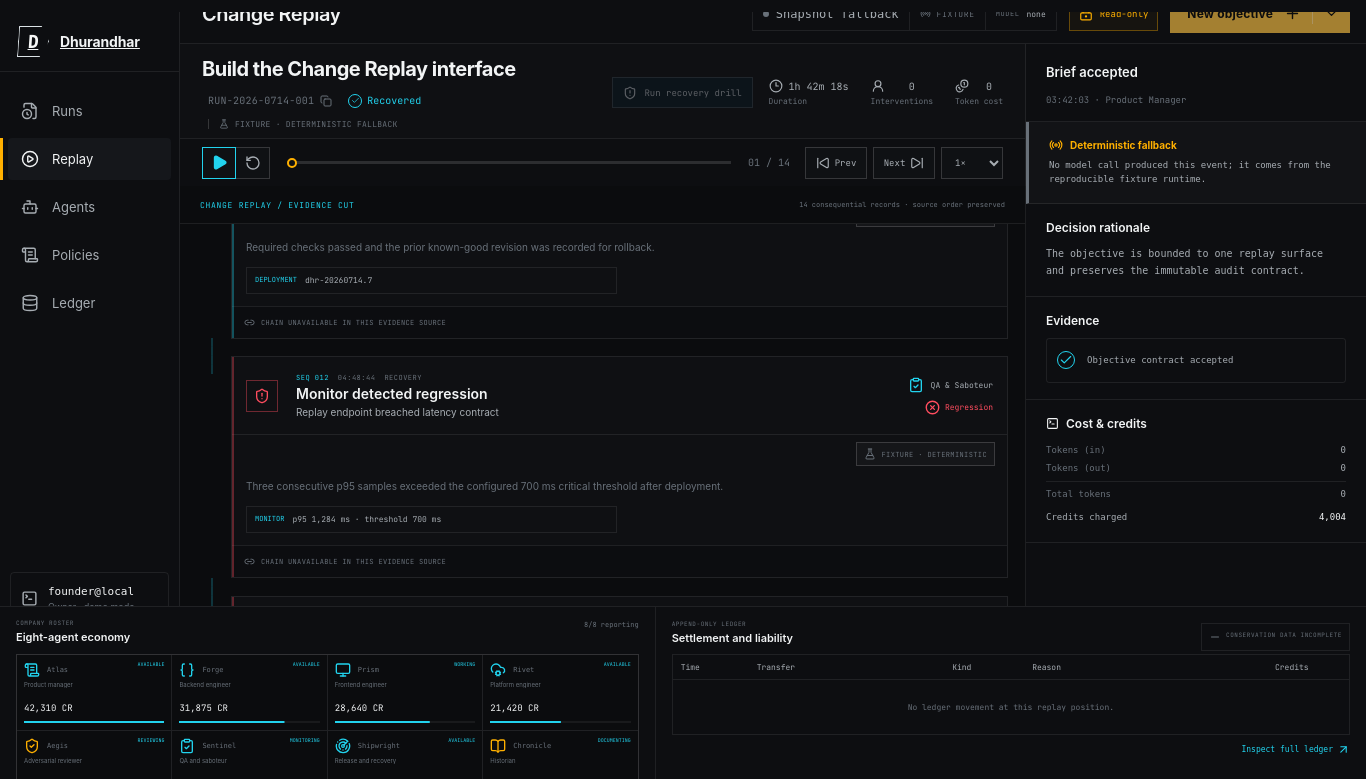
Test: Dhurandhar replay › selects a different event from the causal timeline
(page scrolled)
Step 1. Click the button "Replay endpoint breached latency contract" → [262, 396], box [232,357,1007,435]
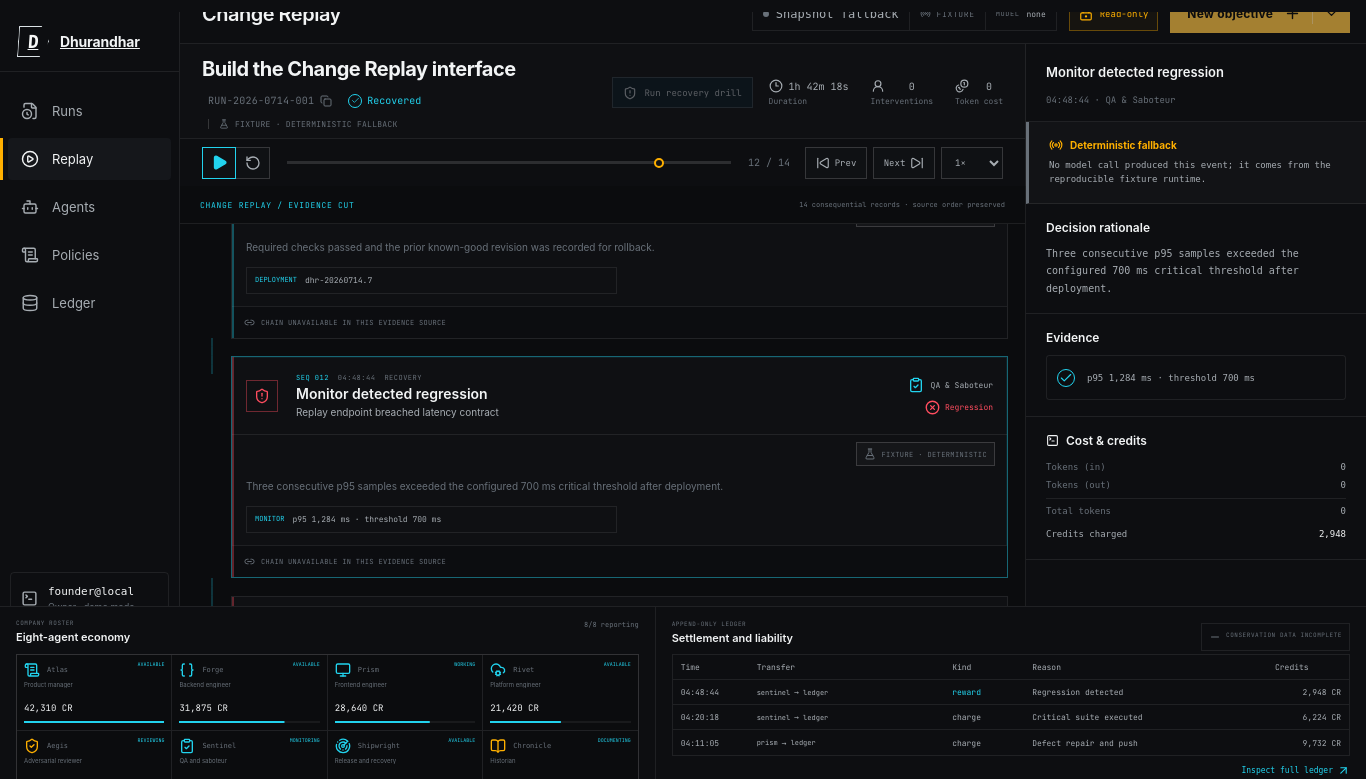
Result: the heading "Monitor detected regression" is shown at [1046,64,1224,80]
